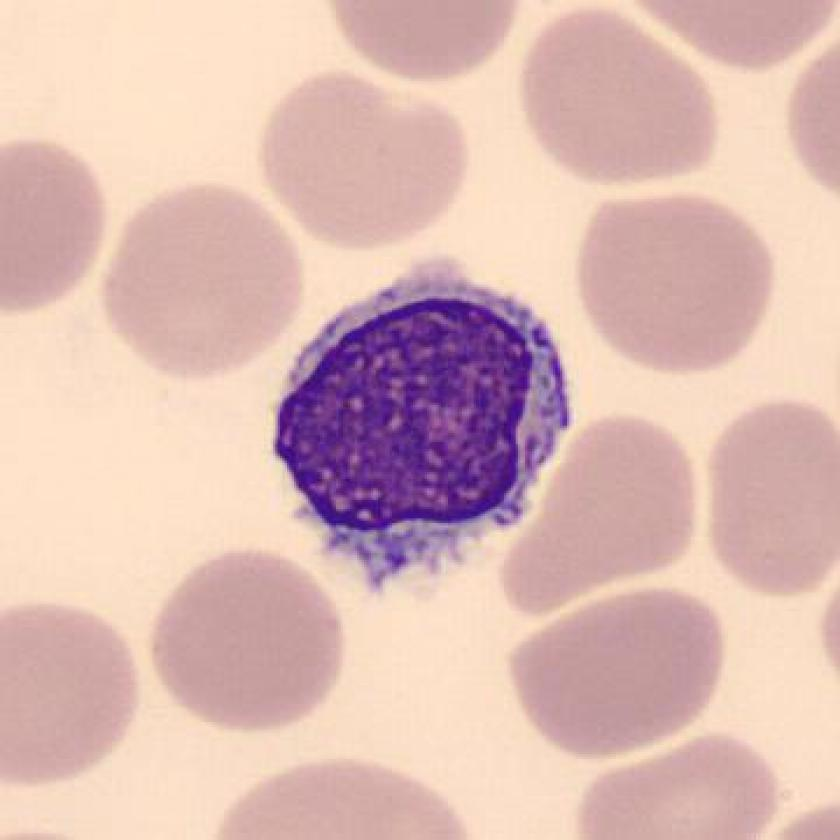lymphocyte: (260, 242, 594, 621)
